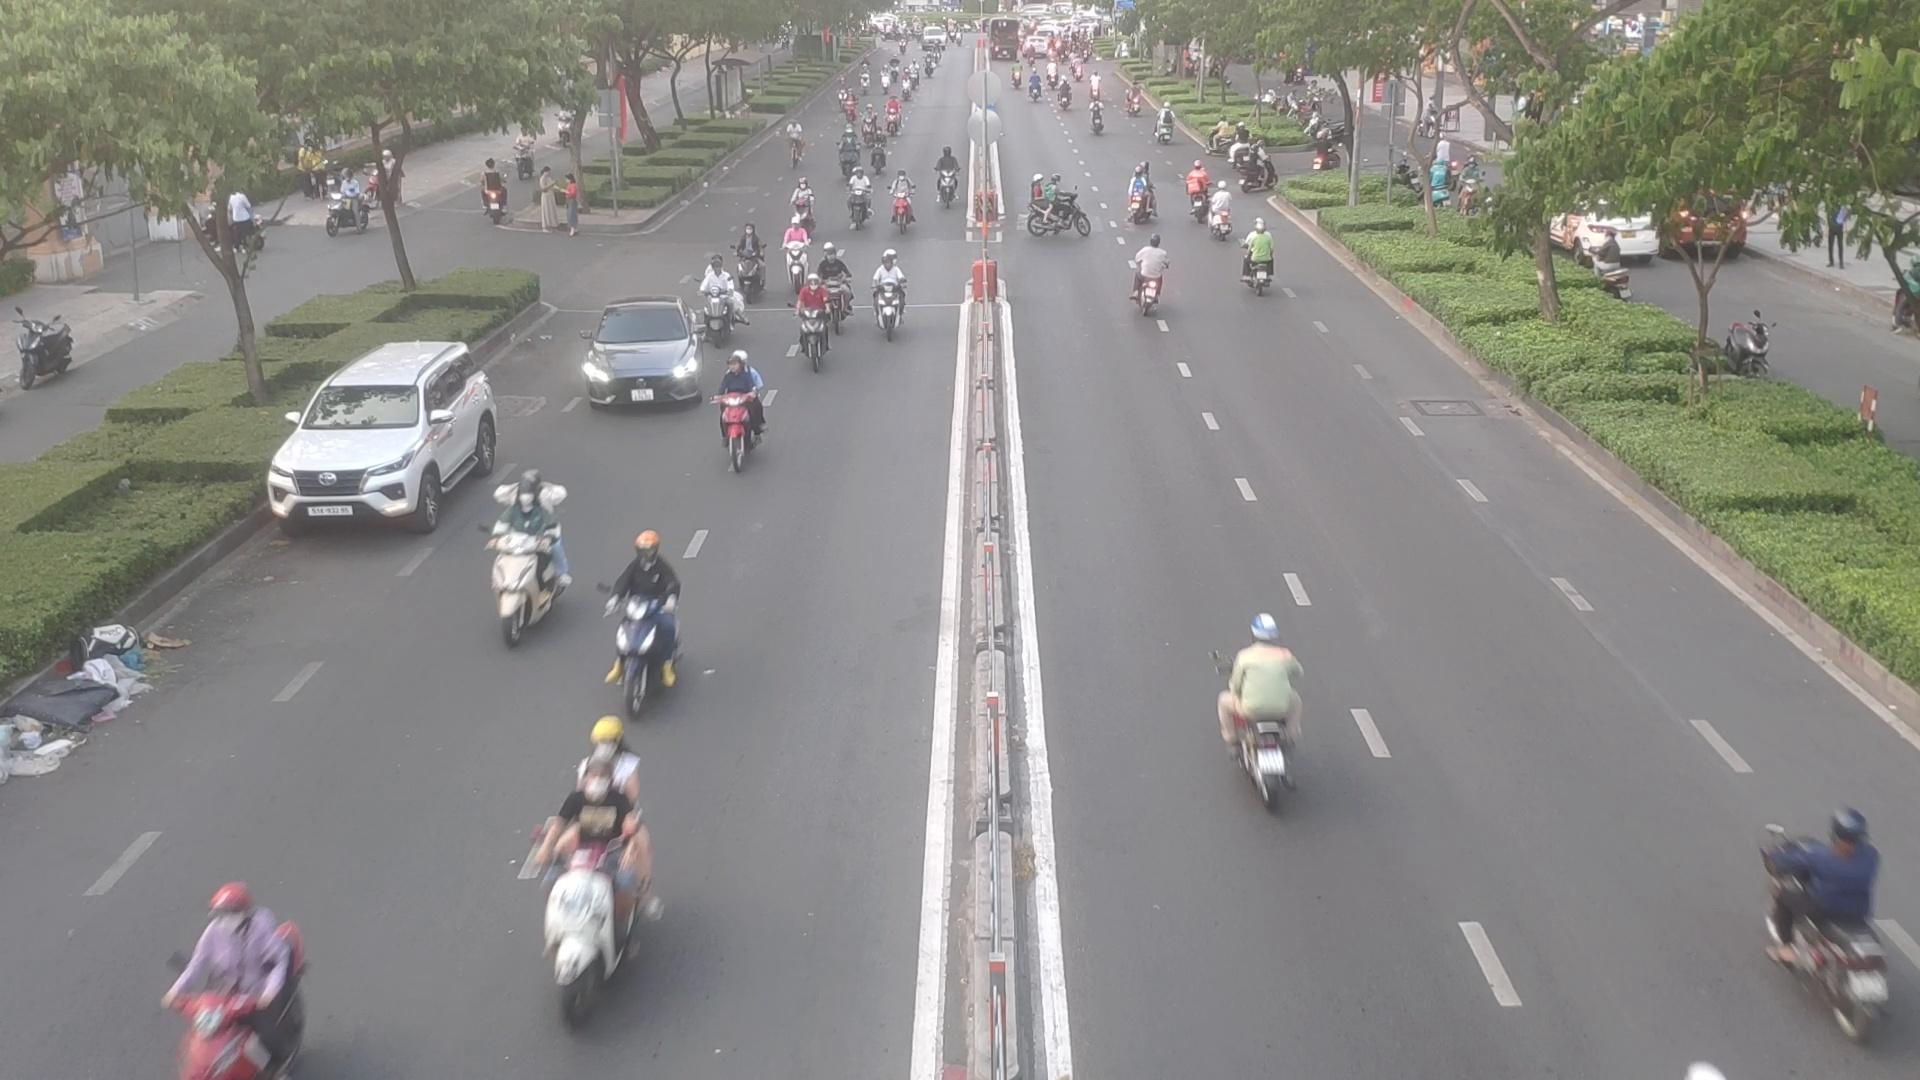car: (272, 344, 514, 534), (576, 298, 708, 407)
motorbike: (1762, 807, 1904, 1040), (525, 775, 658, 1007), (148, 884, 303, 1076), (1212, 626, 1315, 803), (472, 469, 566, 641), (603, 541, 684, 698), (705, 347, 769, 462), (1023, 175, 1097, 245), (694, 262, 749, 342), (1125, 237, 1175, 315), (865, 258, 910, 343), (793, 280, 829, 381), (1238, 224, 1287, 295), (808, 249, 855, 319), (731, 231, 767, 294), (884, 174, 916, 237), (1183, 160, 1212, 229), (1127, 171, 1164, 225), (785, 222, 818, 277), (844, 169, 874, 225), (934, 148, 963, 206), (791, 175, 823, 225), (1209, 178, 1232, 247), (864, 124, 889, 175), (837, 123, 858, 179)
